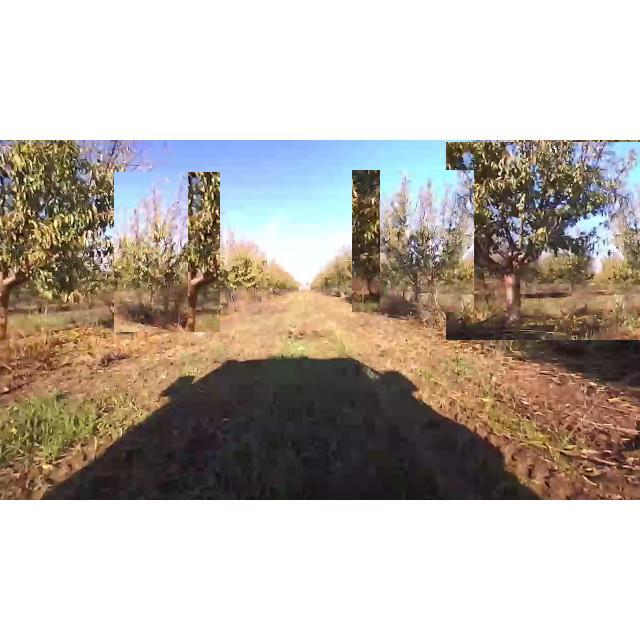direk: (446, 142, 640, 340), (0, 143, 146, 341), (352, 170, 474, 312), (114, 172, 220, 332), (211, 236, 265, 304)
